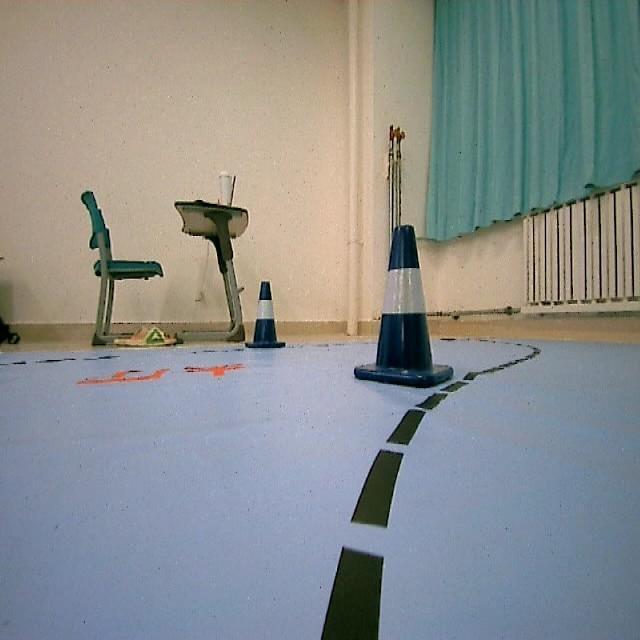obstacle: (346, 224, 436, 388), (242, 278, 286, 350)
